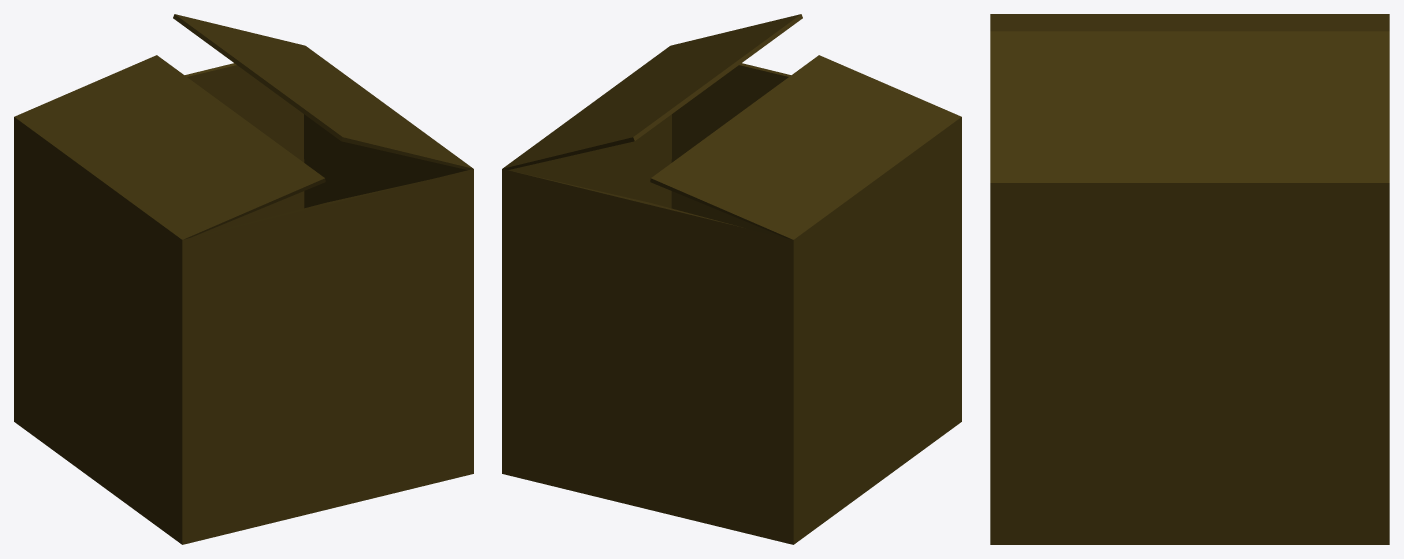
The model's file is Caixa.fbx.
3 views of the same model, side by side, from view 1: azimuth 30°, elevation 25°; view 2: azimuth 150°, elevation 25°; view 3: azimuth 270°, elevation 25° (orthographic). The views are drawn at different scales.
Parts seen in each view (by area): view 1: CaixaFalida; view 2: CaixaFalida; view 3: CaixaFalida.
Boxes of the visible parts, bbox=[...] form: CaixaFalida: bbox=[14, 14, 473, 544]; CaixaFalida: bbox=[502, 14, 961, 544]; CaixaFalida: bbox=[990, 14, 1389, 544].
Size of the model in its own units: 1.04 by 1.26 by 1.04.
